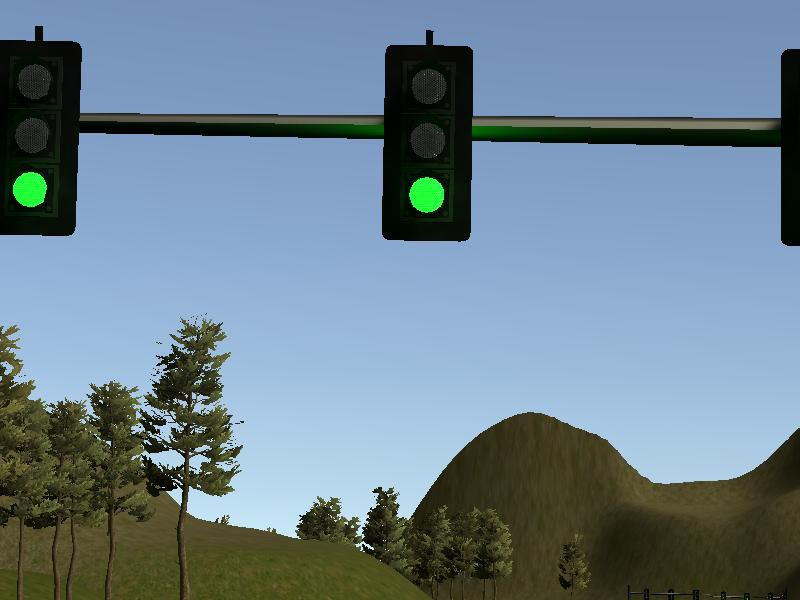Green: (380, 46, 475, 243), (1, 39, 83, 235)
